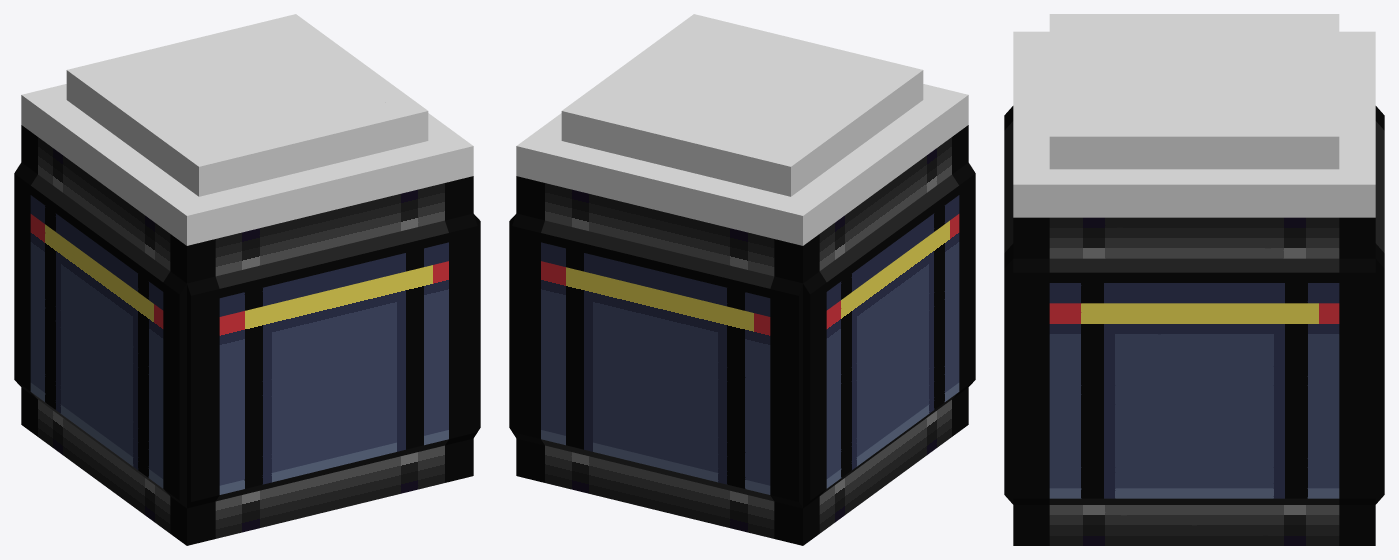
The picture shows the model from 3 angles, left to right: view 1: azimuth 30°, elevation 25°; view 2: azimuth 150°, elevation 25°; view 3: azimuth 270°, elevation 25°; orthographic projection. The views are drawn at different scales.
Parts seen in each view (by area): view 1: S, Roof, W, E; view 2: N, Roof, W, E, S; view 3: E, Roof, N, S.
Part boxes in pixels (x1=…): S: x1=178, y1=176, x2=477, y2=545; Roof: x1=21, y1=14, x2=473, y2=245; W: x1=14, y1=125, x2=201, y2=545; E: x1=459, y1=176, x2=480, y2=476; N: x1=512, y1=177, x2=811, y2=545; Roof: x1=516, y1=14, x2=968, y2=245; W: x1=788, y1=130, x2=975, y2=545; E: x1=509, y1=176, x2=530, y2=476; S: x1=960, y1=125, x2=968, y2=430; E: x1=1013, y1=217, x2=1375, y2=545; Roof: x1=1013, y1=14, x2=1375, y2=217; N: x1=1357, y1=106, x2=1384, y2=545; S: x1=1004, y1=106, x2=1031, y2=545.
Bounding box in the file's own units: 2.1 × 2.4 × 2.1.
Materials: 2 (1 with a texture image).
